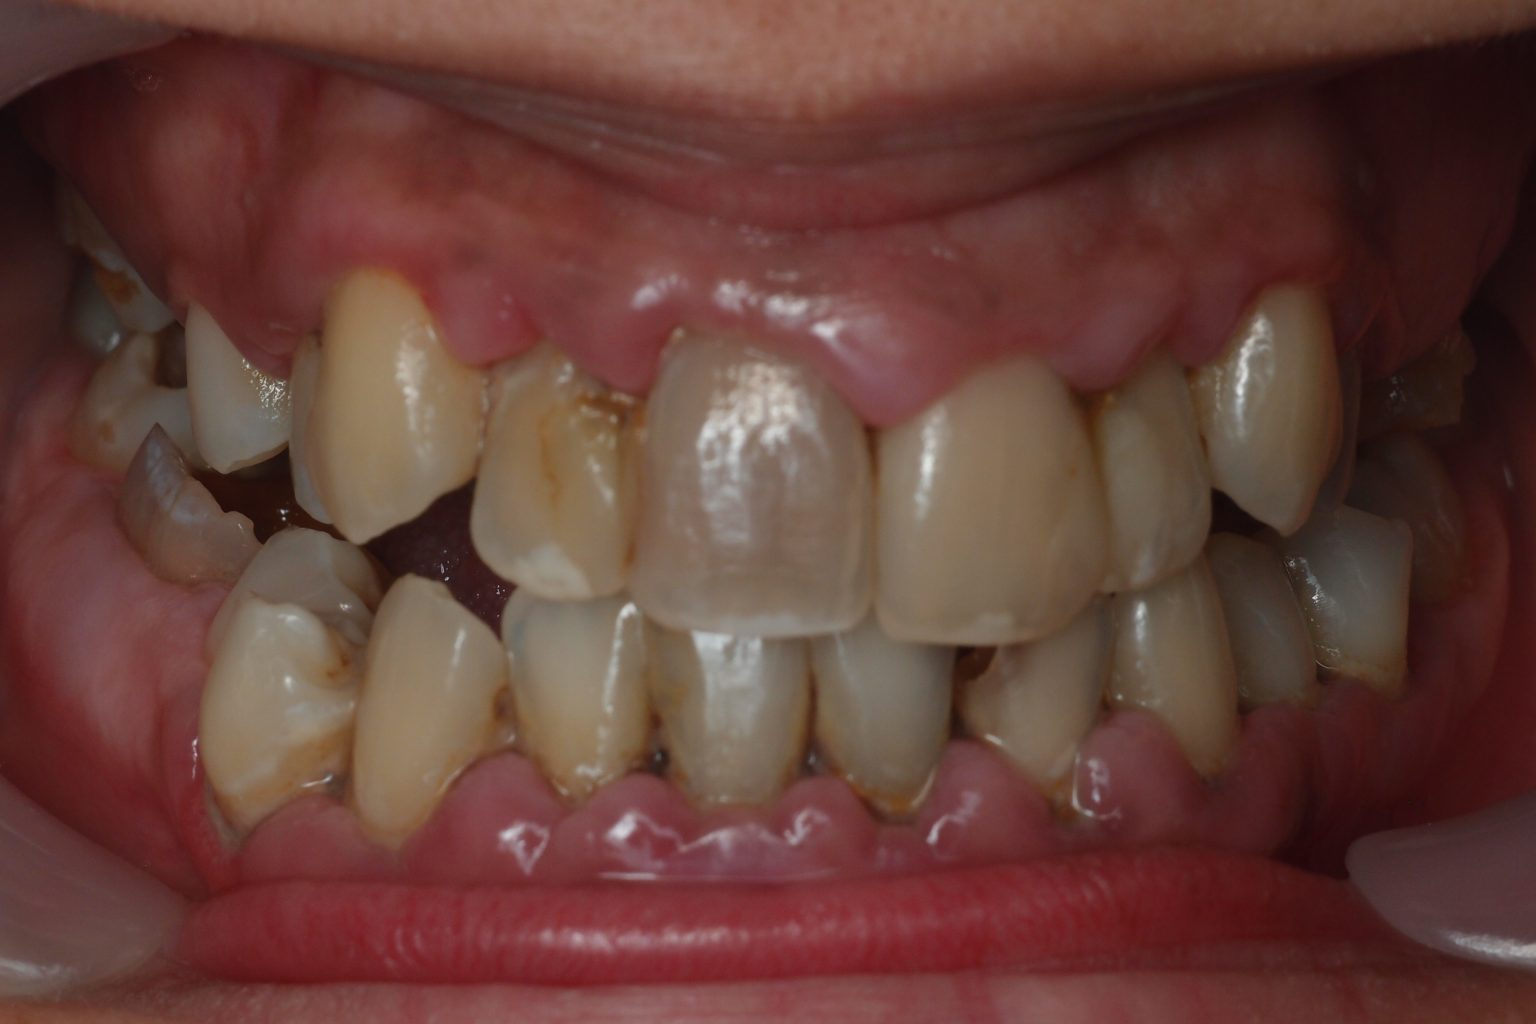LL1BC_decay: (197, 534, 363, 811)
LL1BC_healthy: (1215, 562, 1311, 715)
LL2BC_decay: (1293, 517, 1408, 699)
LLCI_decay: (811, 632, 955, 834)
LLC_healthy: (1110, 574, 1243, 797)
LLLI_decay: (958, 627, 1123, 822)
LRCI_decay: (645, 625, 816, 822)
LRC_decay: (346, 584, 521, 849)
LRLI_decay: (506, 602, 655, 805)
ULCI_healthy: (883, 365, 1103, 650)
ULC_healthy: (1203, 282, 1355, 545)
ULLI_healthy: (1093, 360, 1216, 594)
UR1BC_healthy: (185, 295, 296, 474)
URCI_healthy: (635, 349, 869, 642)
URC_healthy: (293, 287, 486, 535)
URLI_decay: (478, 349, 645, 614)
